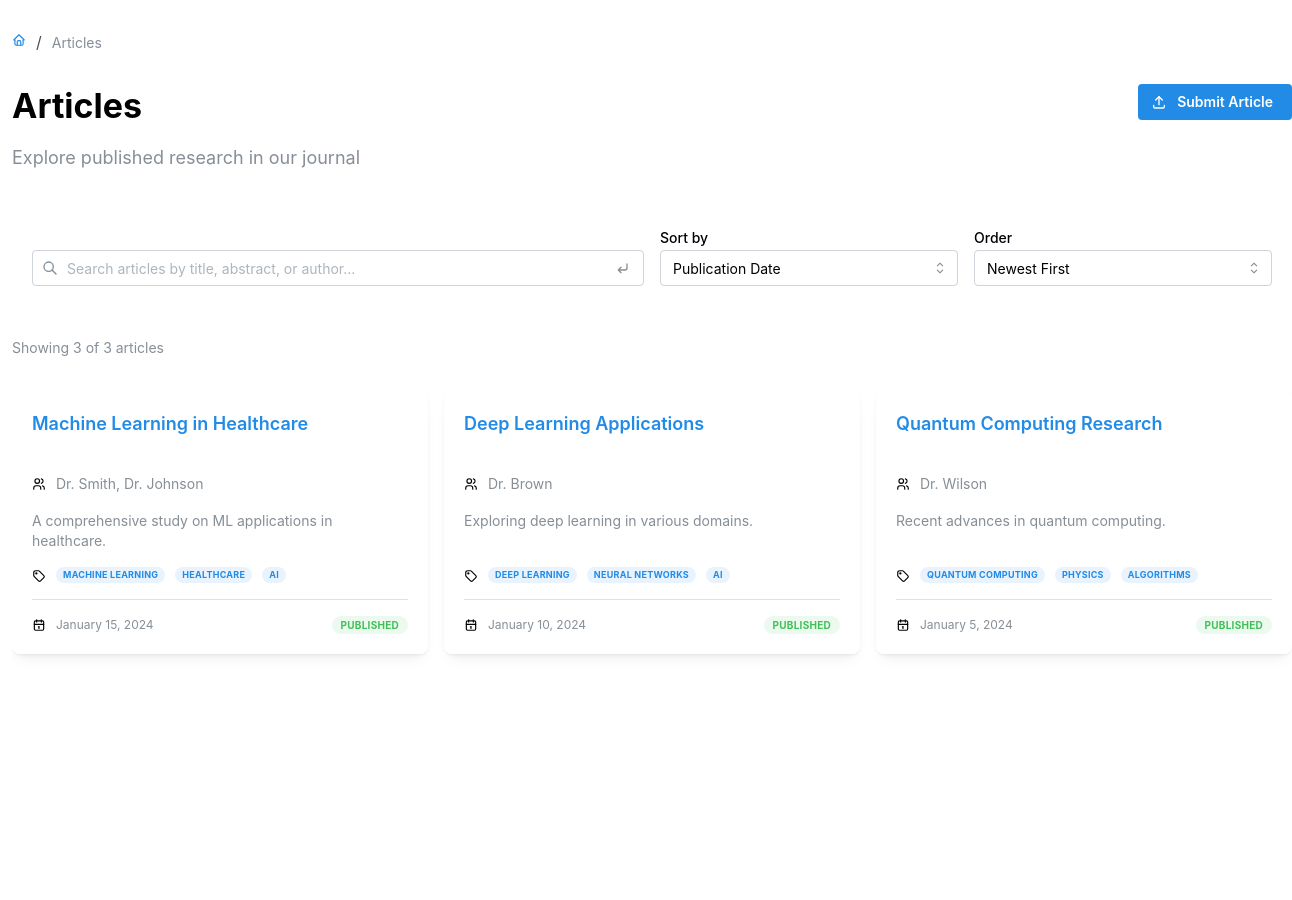
Articles Page - Tag Filtering › Tag Filtering Functionality › should clear filter when "Clear filter" button is clicked
Expected: the link "Machine Learning in Healthcare" is shown, [32,413,308,434]
Note: Click on a tag to set filter
Click the text "AI" below "Dr. Smith, Dr. Johnson" at {"x": 274, "y": 575}, box [269,568,279,582]
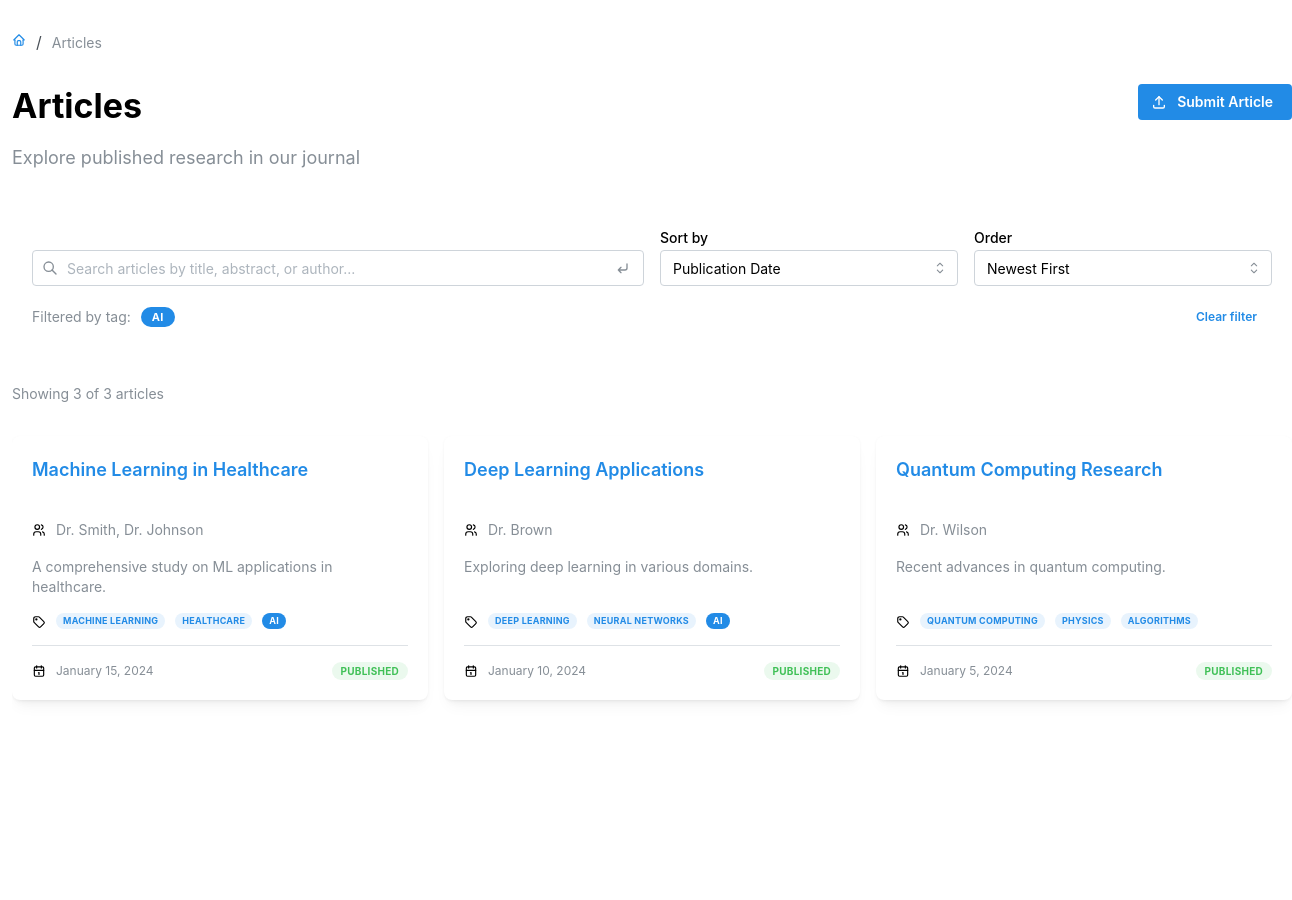
Expected: the button "Clear filter" is shown, [1196,309,1257,324]
Note: Click clear filter button
Click the button "Clear filter" at {"x": 1226, "y": 317}, box [1181,302,1272,332]
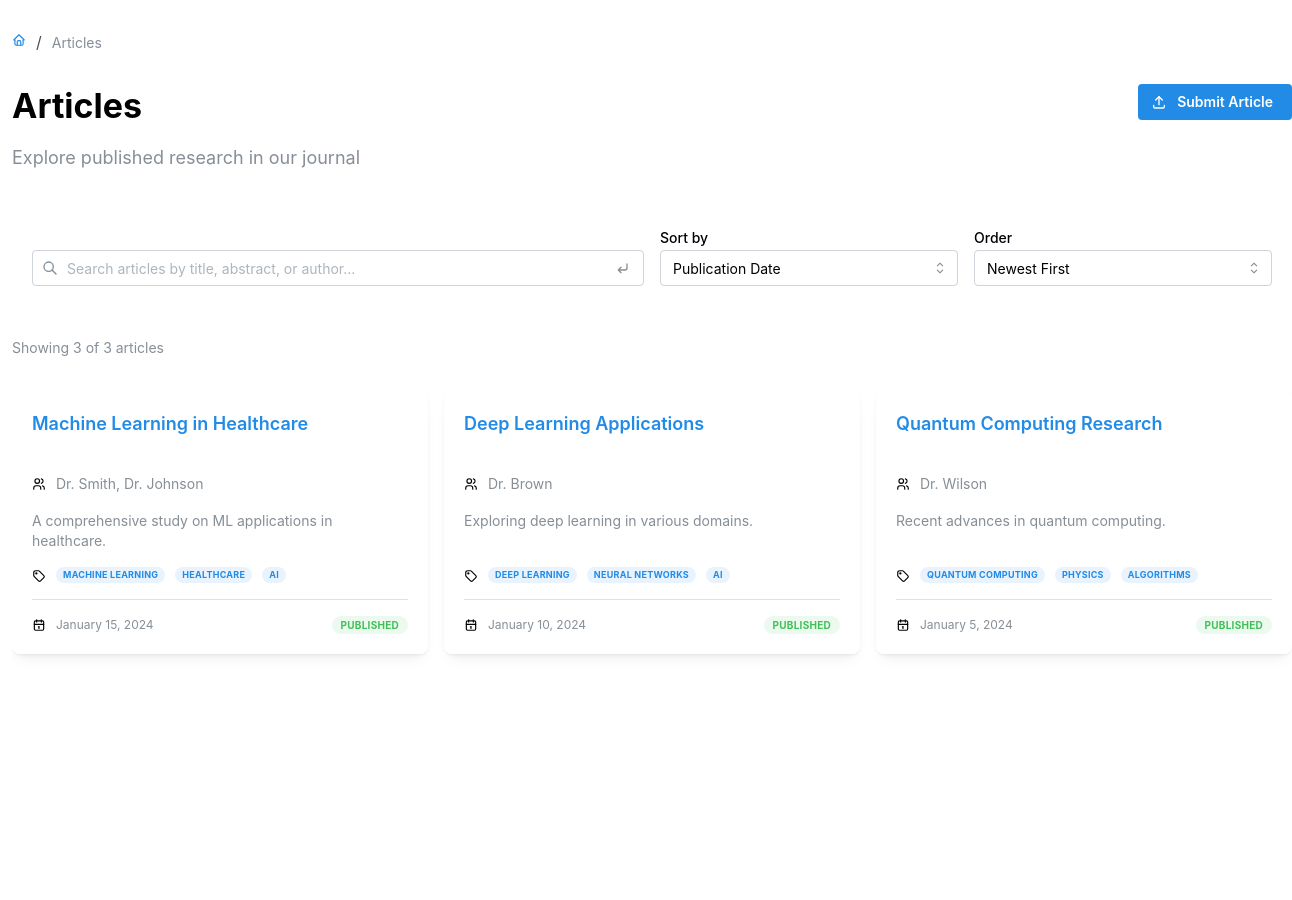
Expected: the text "Filtered by tag:" is gone
Expected: the button "Clear filter" is gone
